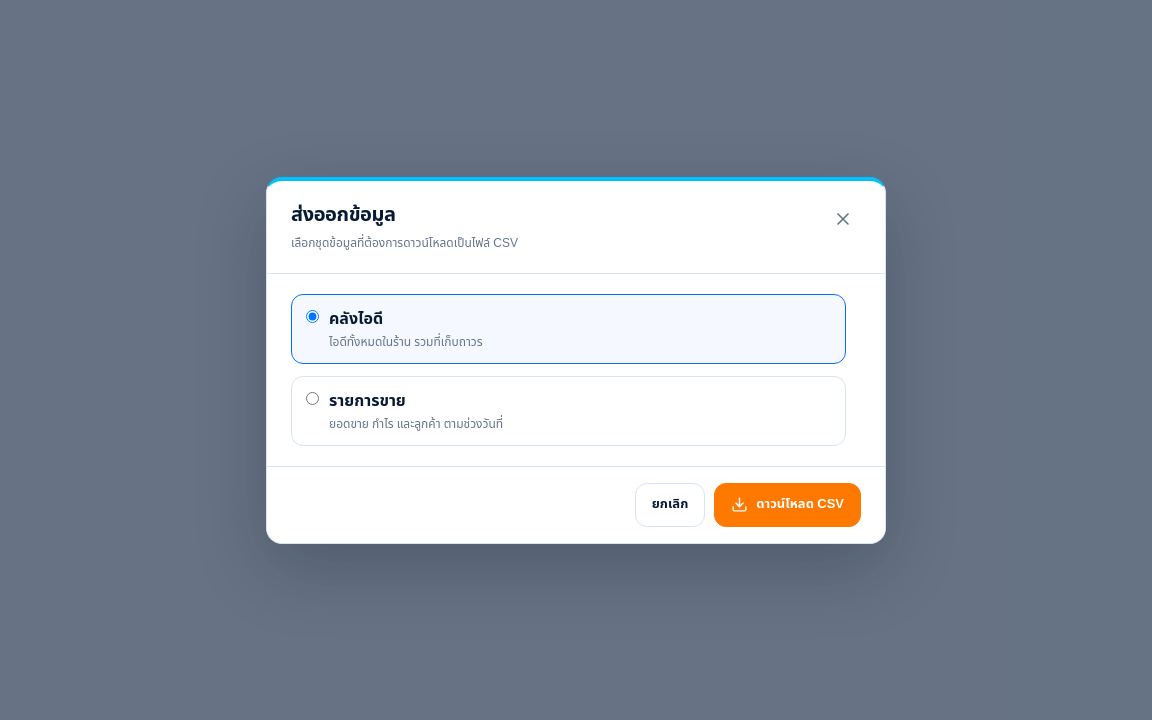
Test: ExportDialog › เปิดตัวเลือกช่วงวันที่เมื่อมีสิทธิ์ advanced_export
Step 1. Click the radio button labelled "รายการขาย ยอดขาย กำไร และลูกค้า ตามช่วงวันที่" → x=312, y=398, box [306,392,319,404]
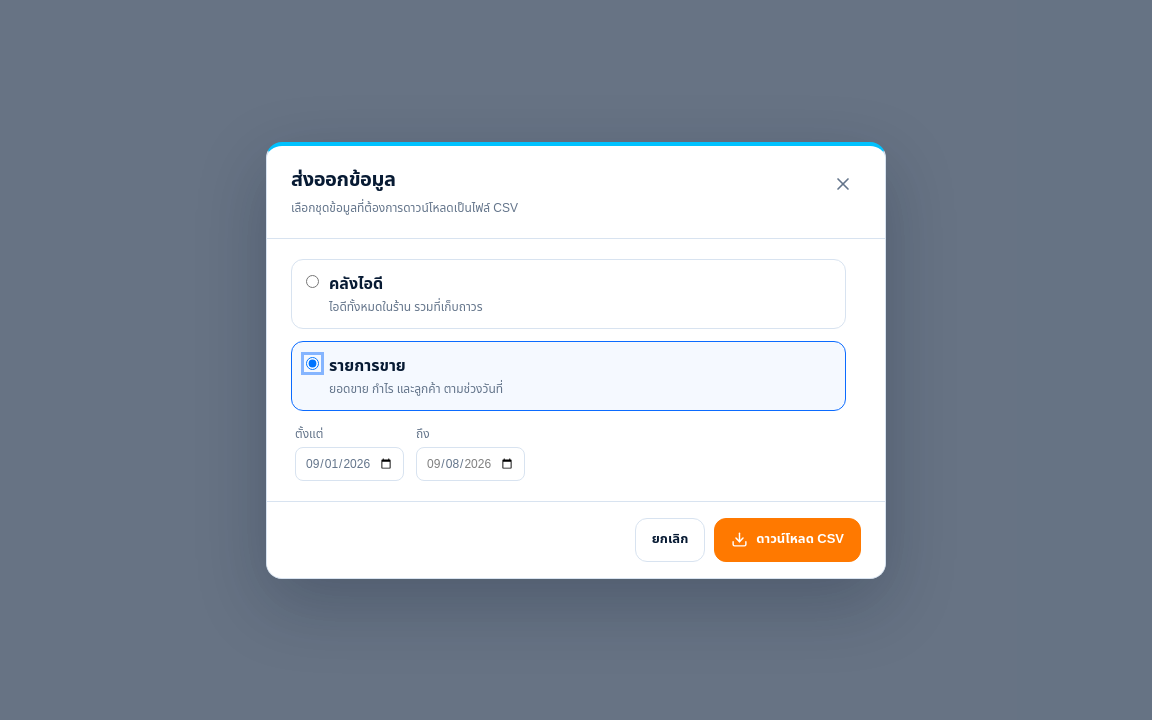
Expected: the date field labelled "ตั้งแต่" is shown, [295,446,404,480]
Expected: the date field labelled "ถึง" is shown, [416,446,525,480]
